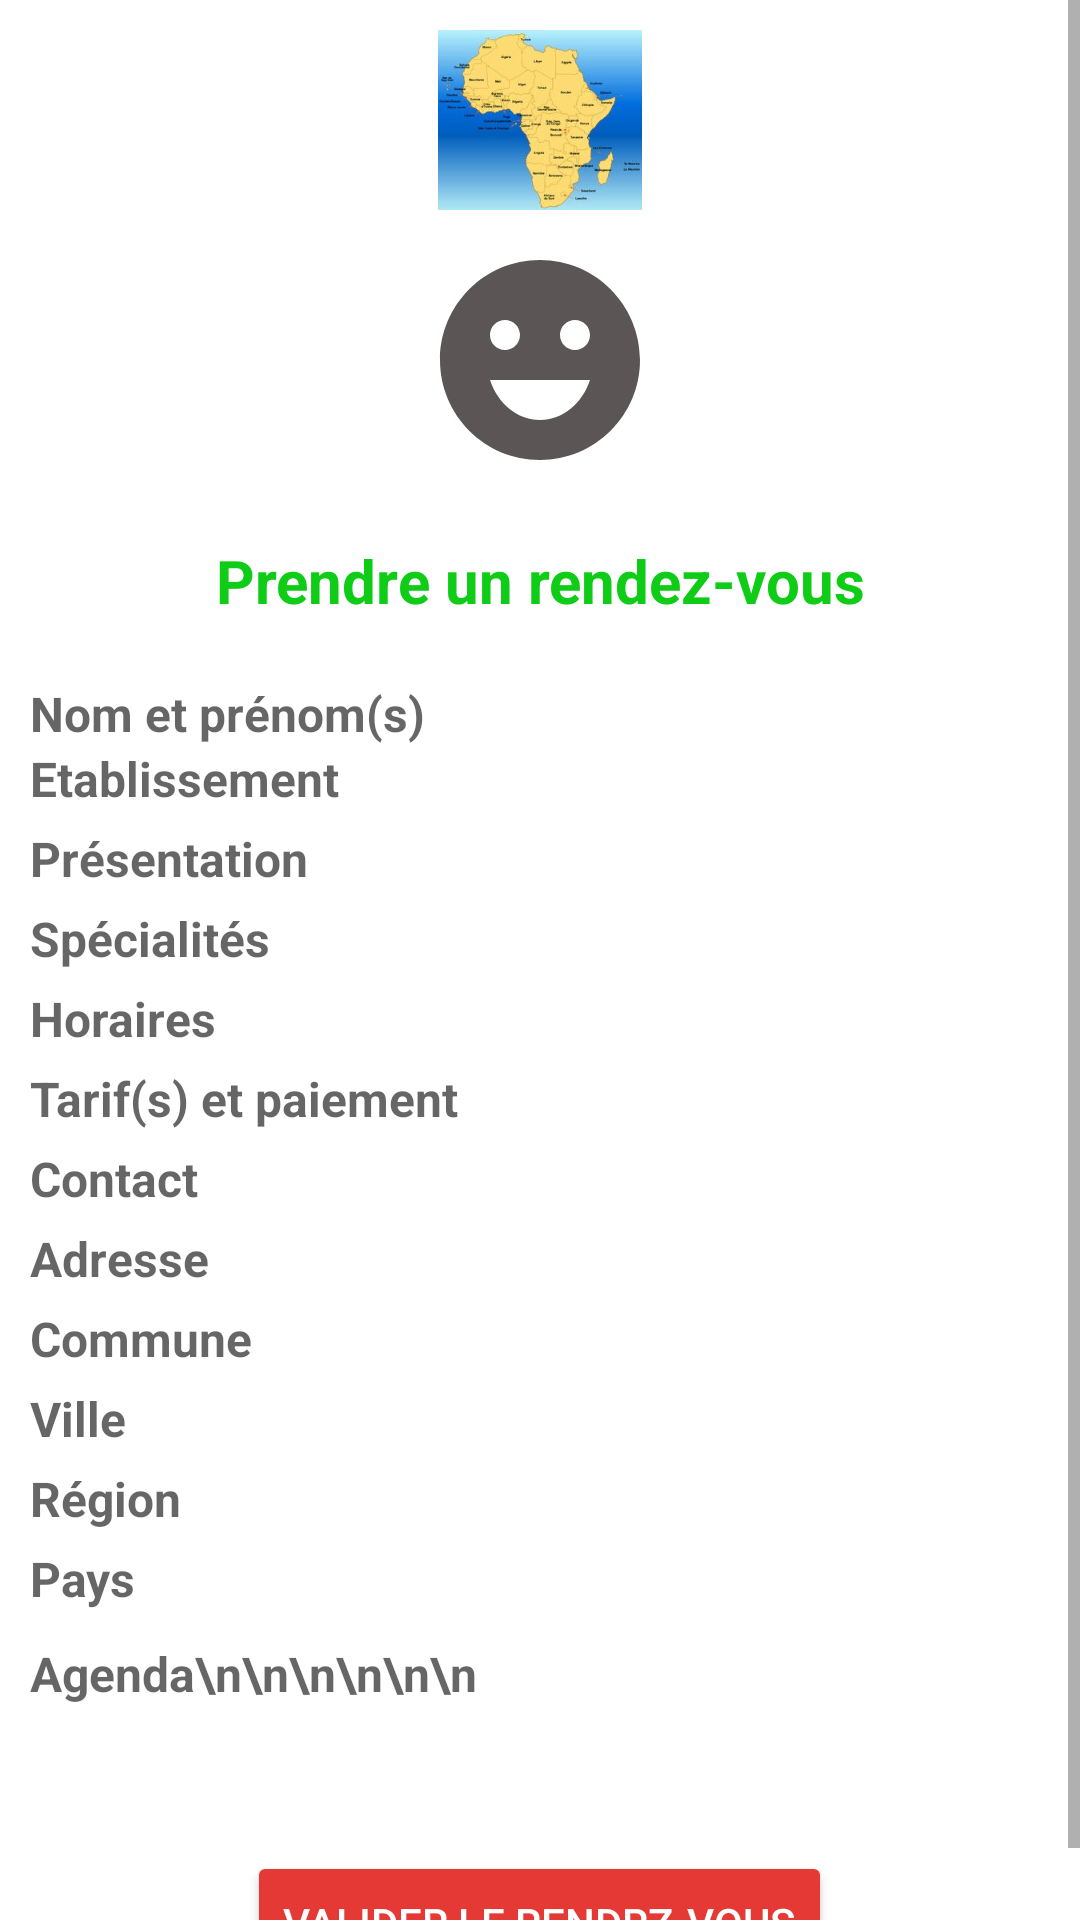

Icon bounding boxes for this 1080w x 1920h phone screenshot, format (x1, y1, x2, y2):
carte: (438, 30, 642, 210)
emoji emotions: (440, 260, 640, 460)
